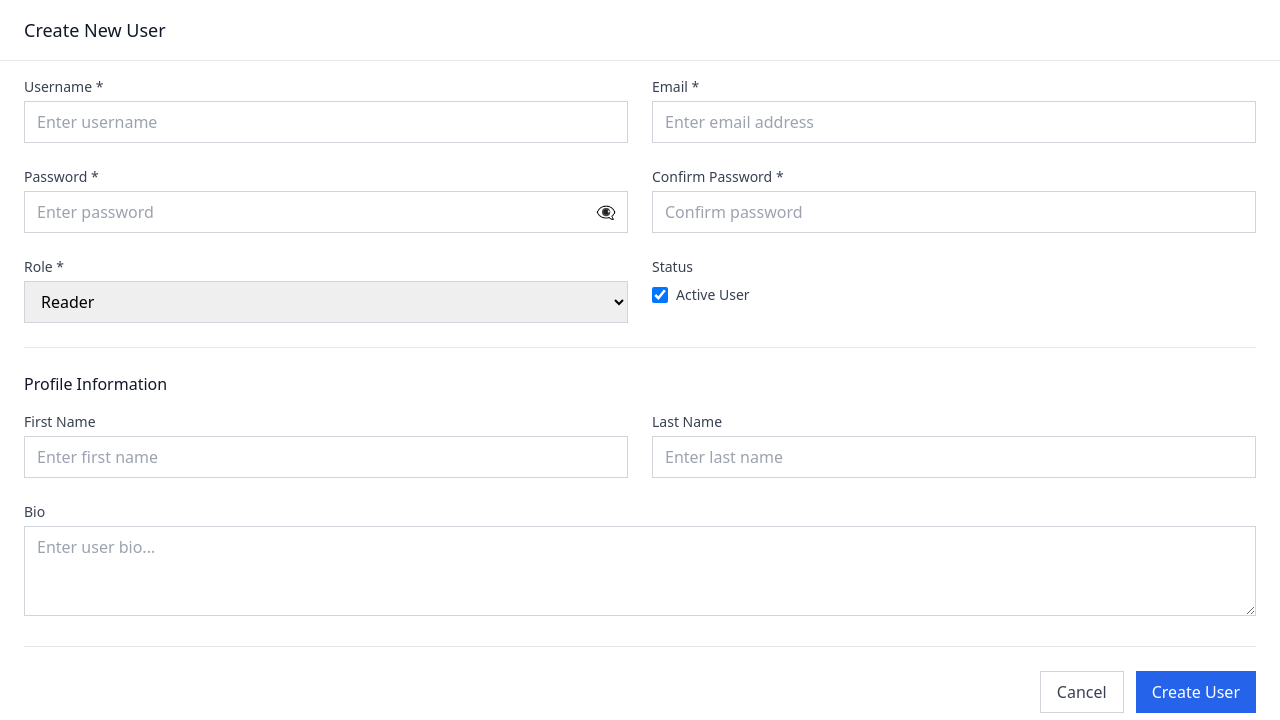
Scenario: UserForm › Error Handling › should validate minimum username length
The width and height of the screenshot is (1280, 720).
Type "ab" into the field with placeholder "Enter username" at (326, 122), box [24,101,628,143]
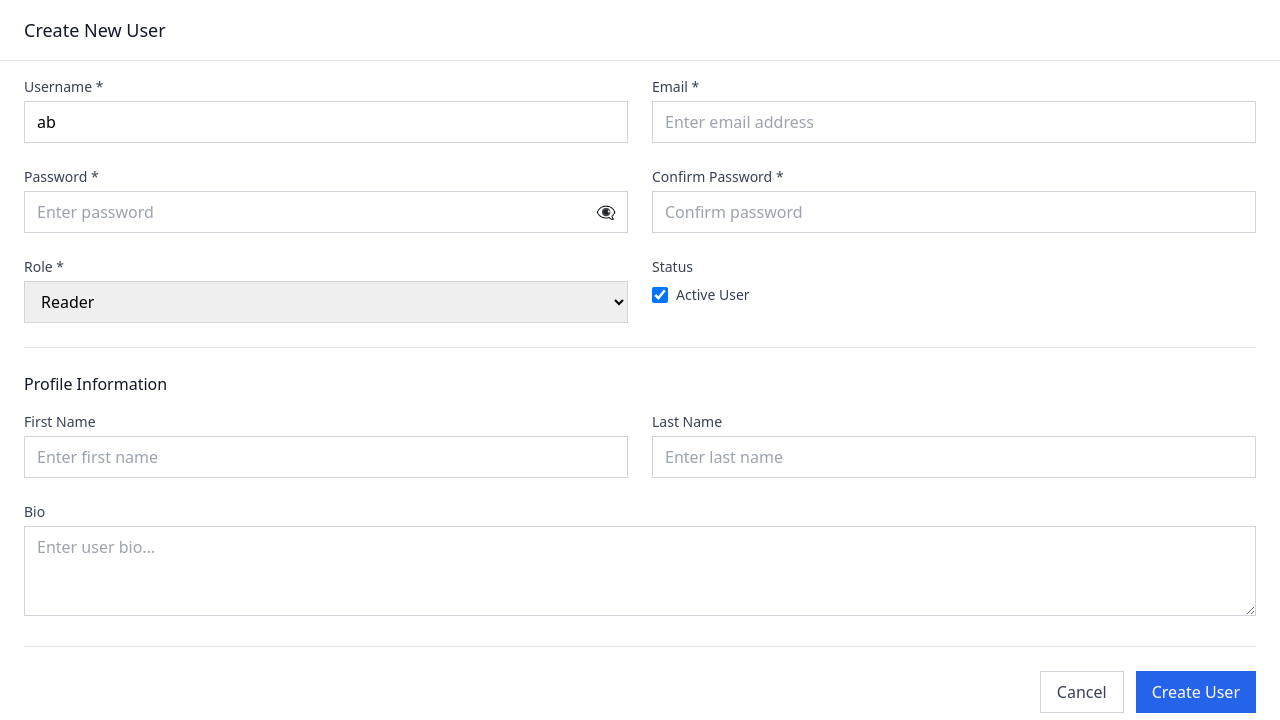
Click the button "Create User" at (1196, 692), box [1136,671,1256,713]
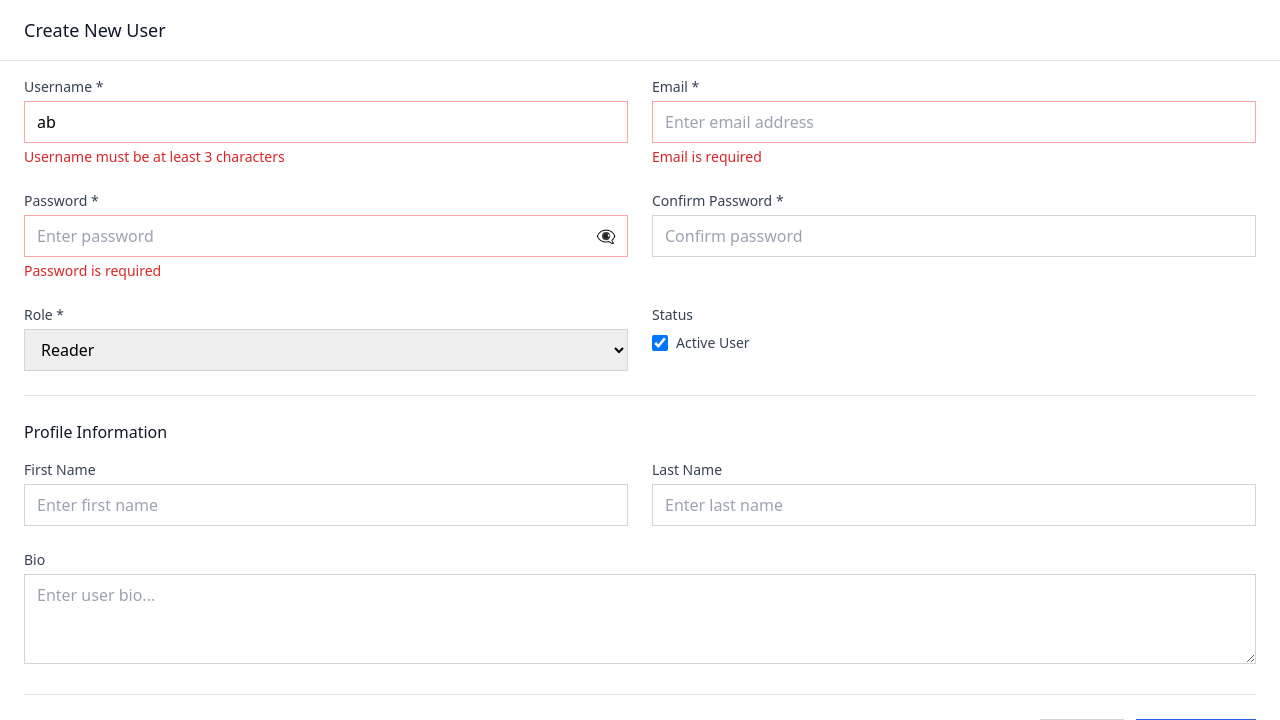
Expected: the text "Username must be at least 3 characters" is shown, [24,147,285,166]
